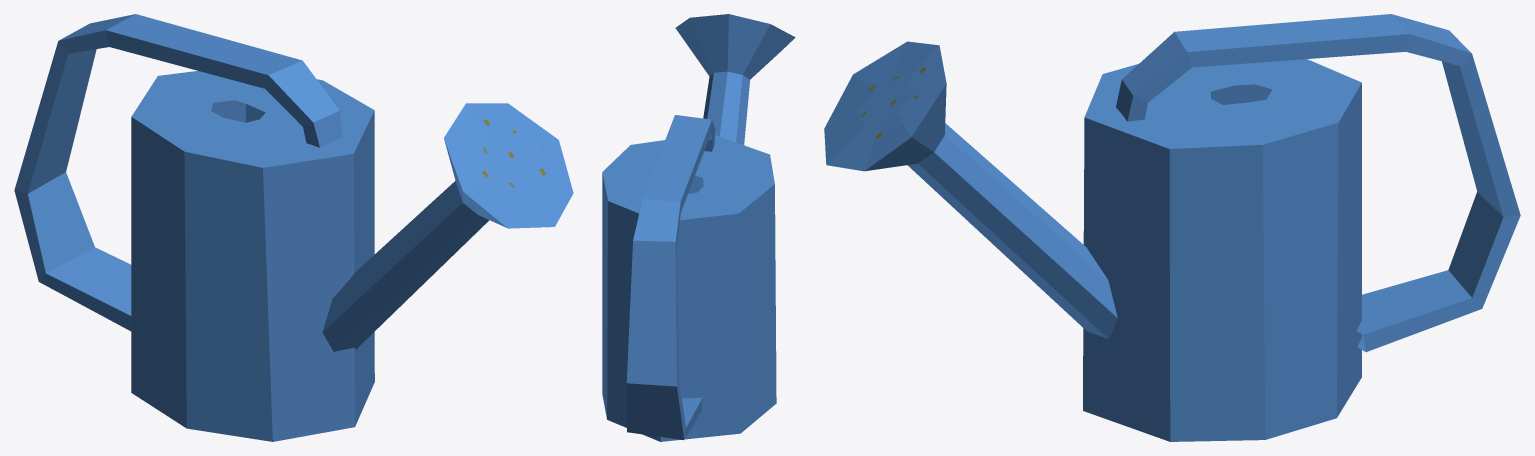
Rendered from Patio_WateringCan.fbx.
The picture shows the model from 3 angles, left to right: view 1: azimuth 30°, elevation 25°; view 2: azimuth 150°, elevation 25°; view 3: azimuth 270°, elevation 25°; orthographic projection. The views are drawn at different scales.
Parts seen in each view (by area): view 1: Patio_WateringCan; view 2: Patio_WateringCan; view 3: Patio_WateringCan.
Part boxes in pixels (x1=…): Patio_WateringCan: x1=14, y1=14, x2=573, y2=441; Patio_WateringCan: x1=602, y1=14, x2=795, y2=441; Patio_WateringCan: x1=824, y1=14, x2=1520, y2=441.
Bounding box in the file's own units: 29.95 × 38.17 × 61.51.
